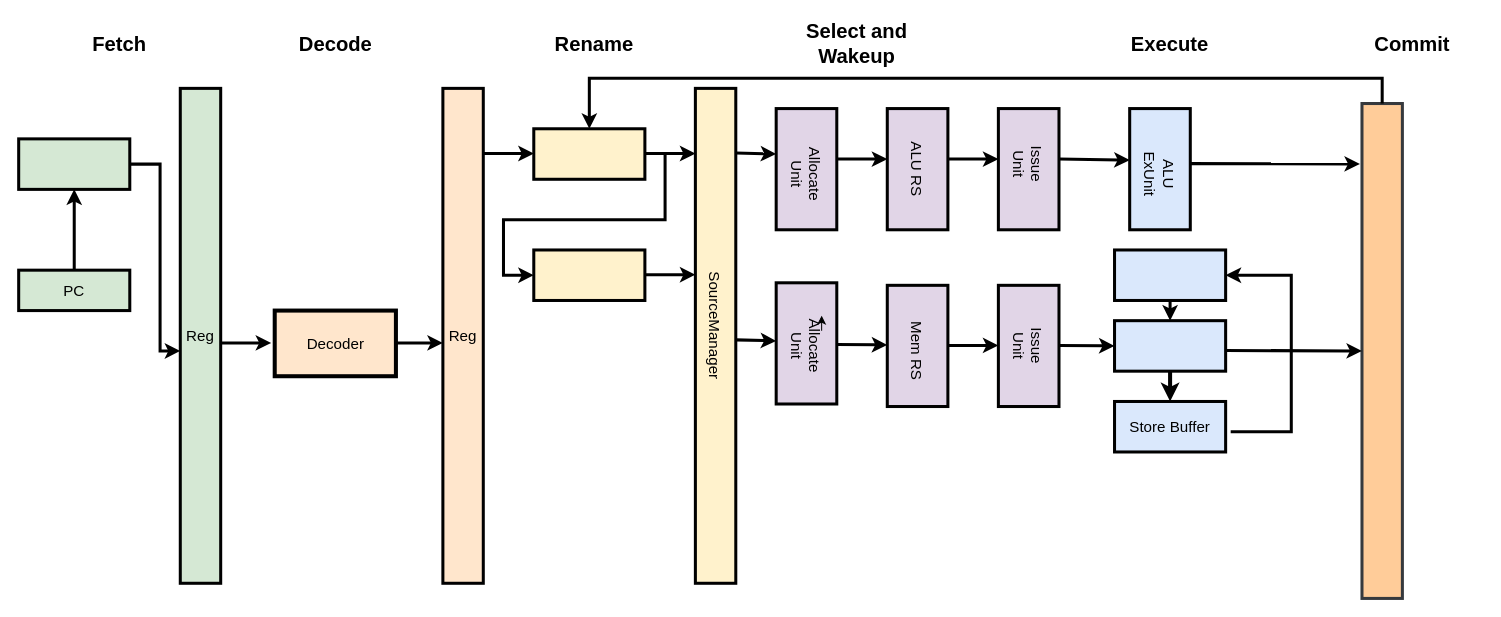
This 1501x617 diagram has some shape labels left out. The shapes that lost their labels are listed below. From the top down, each one's centre as x and y in pixels, then its label:
(74,163): IMEM
(589,153): ARF
(589,274): RRF
(1170,274): DMEM
(1170,345): LDST ExUnit
(1381,350): Reorder Buffer
